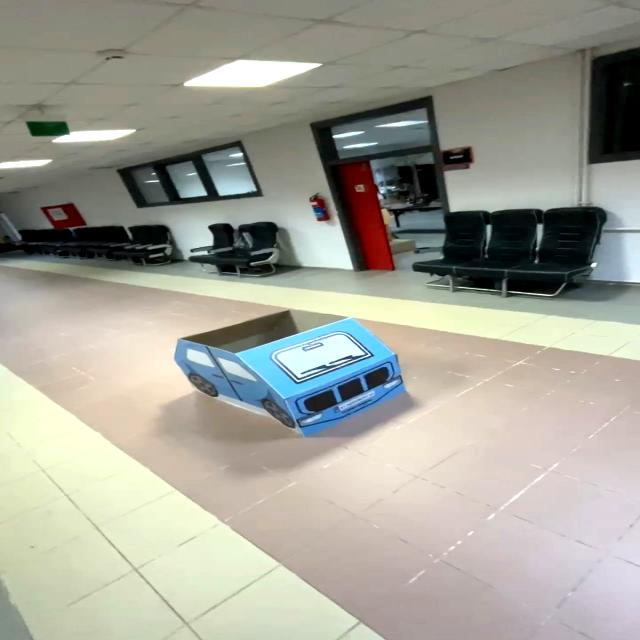blue_car: (139, 282, 444, 481)
